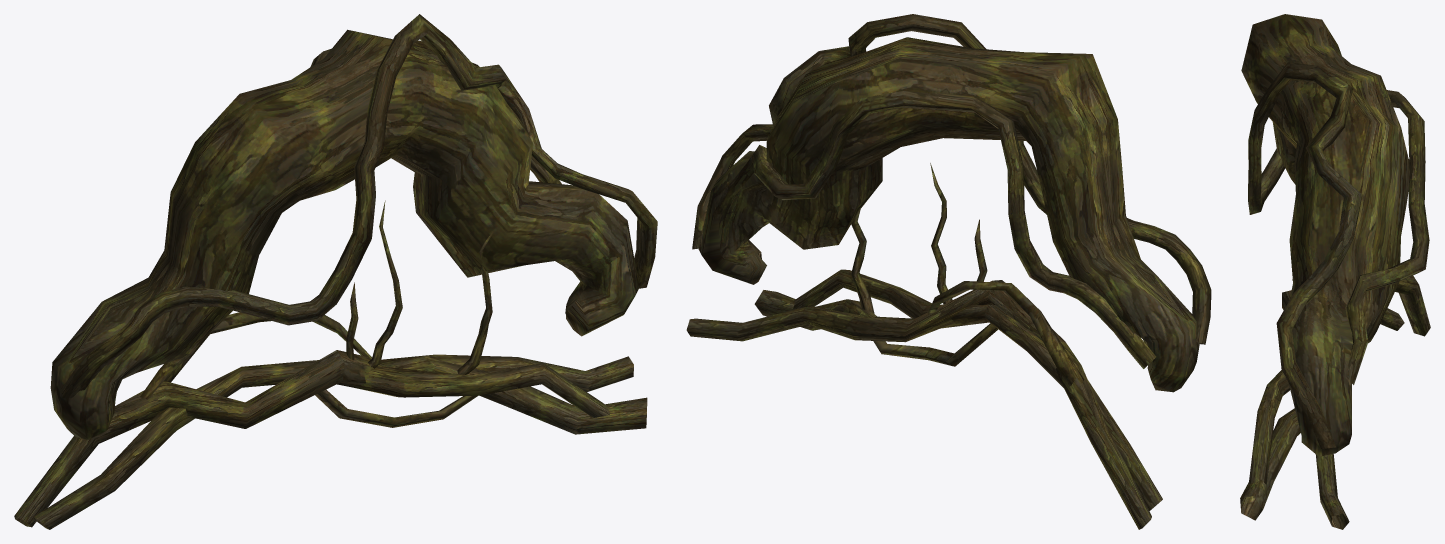
The model's file is shu_gan_002.FBX.
The picture shows the model from 3 angles, left to right: view 1: azimuth 30°, elevation 25°; view 2: azimuth 150°, elevation 25°; view 3: azimuth 270°, elevation 25°; orthographic projection. The views are drawn at different scales.
Visible parts, largest first — view 1: shu_gan_002_a, shu_gan_002_b; view 2: shu_gan_002_a, shu_gan_002_b; view 3: shu_gan_002_a, shu_gan_002_b.
Boxes of the visible parts, x1,y1,x2,y2 form: shu_gan_002_a: (50,14,657,439); shu_gan_002_b: (14,200,647,529); shu_gan_002_a: (692,14,1211,392); shu_gan_002_b: (686,163,1162,529); shu_gan_002_a: (1241,14,1429,456); shu_gan_002_b: (1240,275,1430,529).
Size of the model in its own units: 655 by 498 by 213.
1 material, 1 textured.
